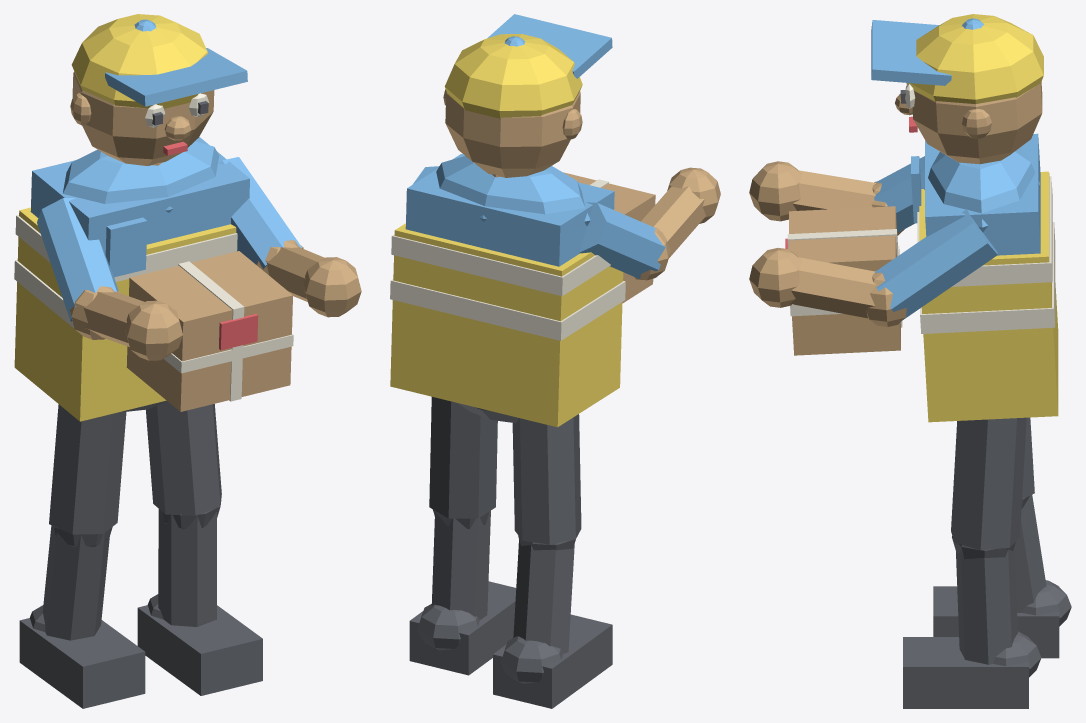
Rendered from lawn-mowing-simulator-kit-delivery-driver-standing-14b29a67__27355.glb.
3 views of the same model, side by side, from view 1: azimuth 30°, elevation 25°; view 2: azimuth 150°, elevation 25°; view 3: azimuth 270°, elevation 25° (orthographic). The views are drawn at different scales.
Parts seen in each view (by area): view 1: delivery-driver-standing; view 2: delivery-driver-standing; view 3: delivery-driver-standing.
Part boxes in pixels (x1,y1,x2,y2): delivery-driver-standing: (14, 14, 361, 708); delivery-driver-standing: (390, 14, 720, 708); delivery-driver-standing: (749, 14, 1071, 708).
Bounding box in the file's own units: 0.6418 × 1.71 × 0.7688.
